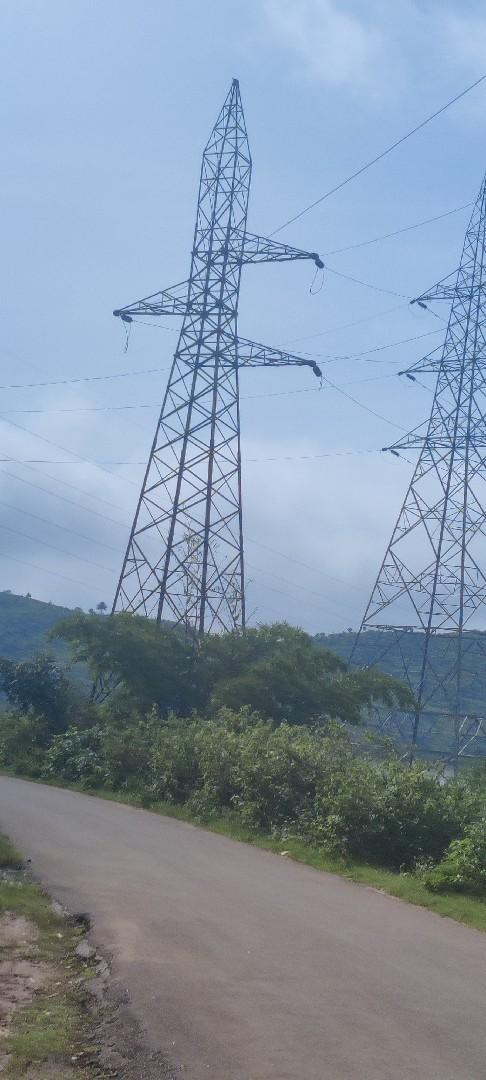GSM Antenna: (103, 71, 326, 600)
